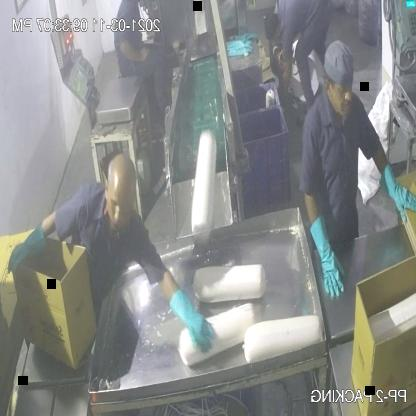glove: (307, 209, 349, 305), (168, 284, 216, 362), (373, 151, 416, 237), (5, 219, 48, 278)
no_glove: (114, 39, 152, 64)
